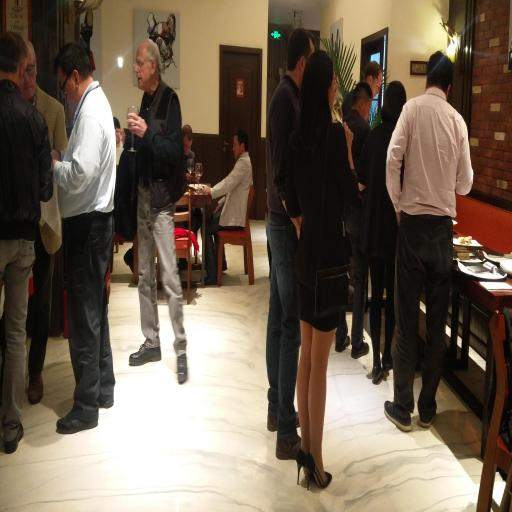person: (385, 52, 473, 431), (287, 51, 358, 487), (54, 44, 116, 433), (0, 32, 53, 453), (266, 29, 314, 459), (128, 40, 187, 383), (361, 81, 406, 384), (204, 129, 252, 285), (28, 187, 61, 404), (346, 200, 369, 358), (364, 62, 382, 98), (182, 125, 195, 161), (182, 125, 194, 160)
